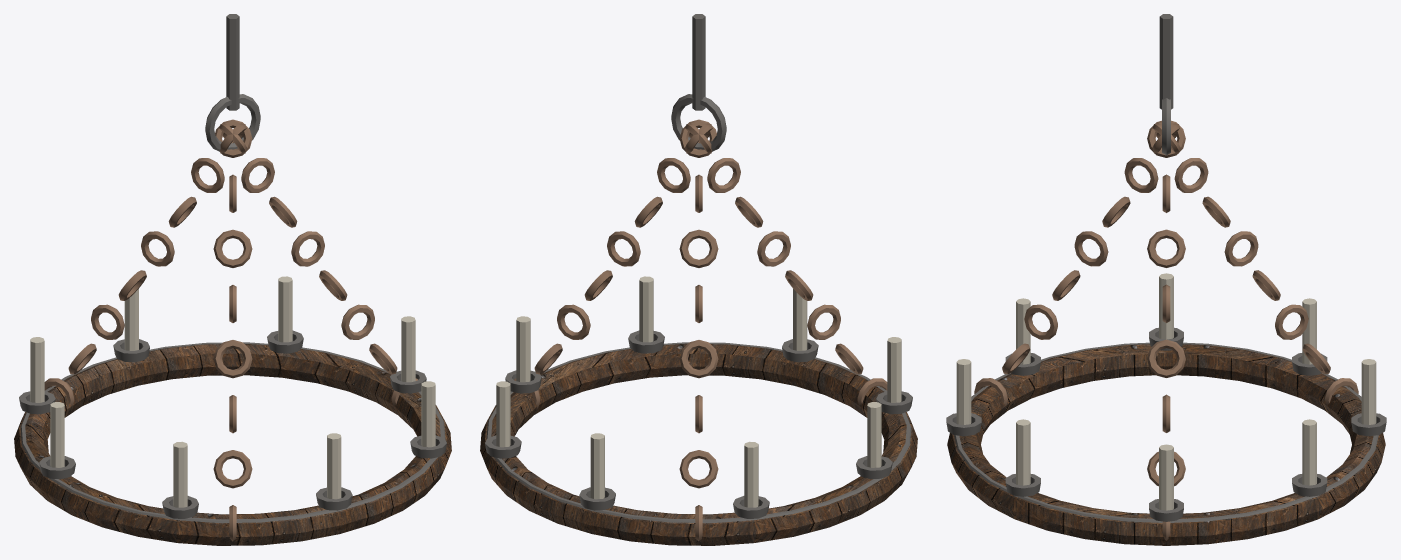
Rendered from hanging-chandelier-v01.glb.
The picture shows the model from 3 angles, left to right: view 1: azimuth 30°, elevation 25°; view 2: azimuth 150°, elevation 25°; view 3: azimuth 270°, elevation 25°; orthographic projection.
Parts seen in each view (by area): view 1: hanging-chandelier; view 2: hanging-chandelier; view 3: hanging-chandelier.
Boxes of the visible parts, x1,y1,x2,y2 form: hanging-chandelier: [14, 14, 451, 545]; hanging-chandelier: [480, 14, 917, 545]; hanging-chandelier: [946, 14, 1386, 545].
Size of the model in its own units: 1.31 by 1.45 by 1.3.
Materials: 4 (1 with a texture image).
